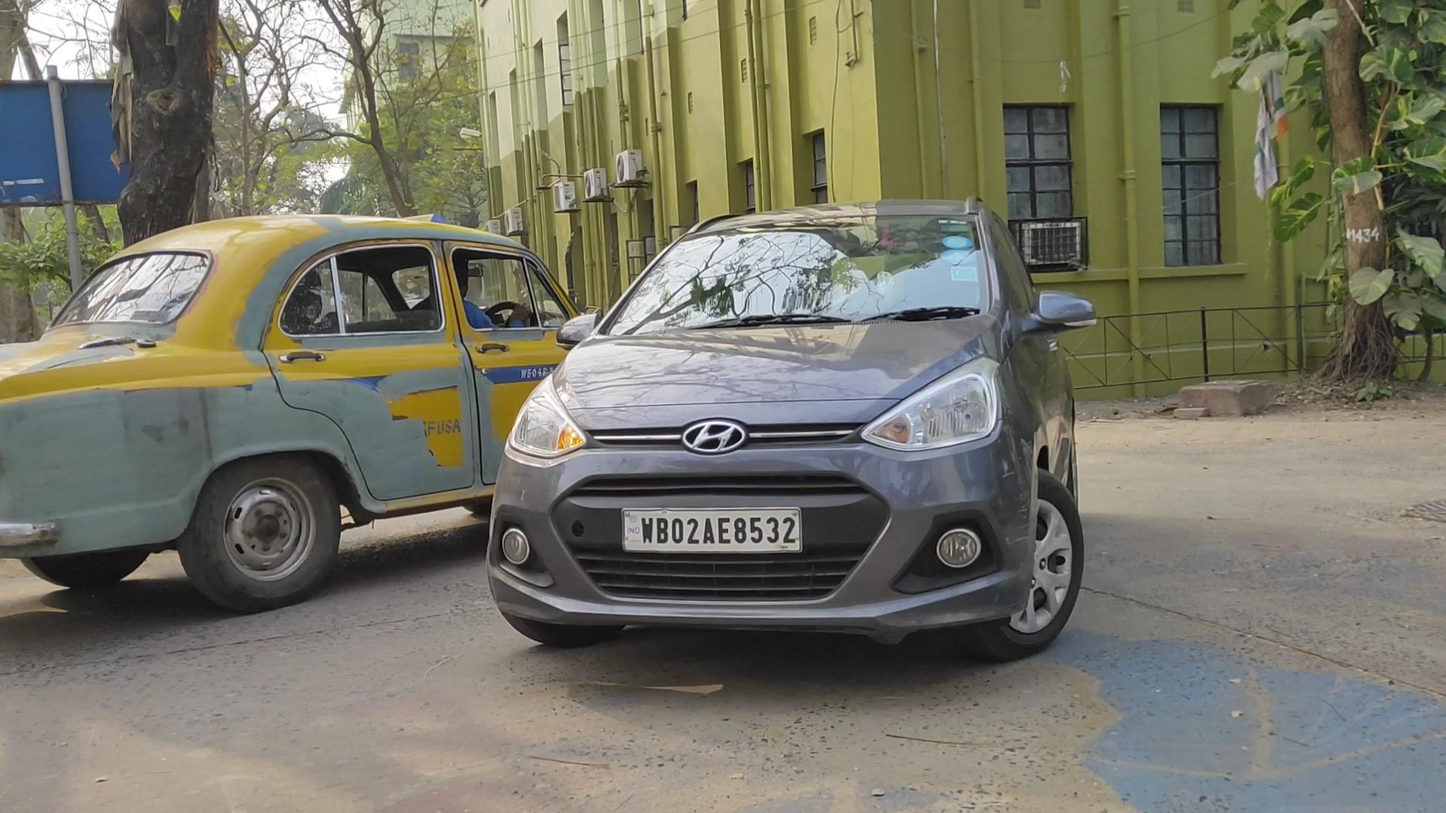car: (486, 196, 1093, 668), (1, 206, 615, 615)
